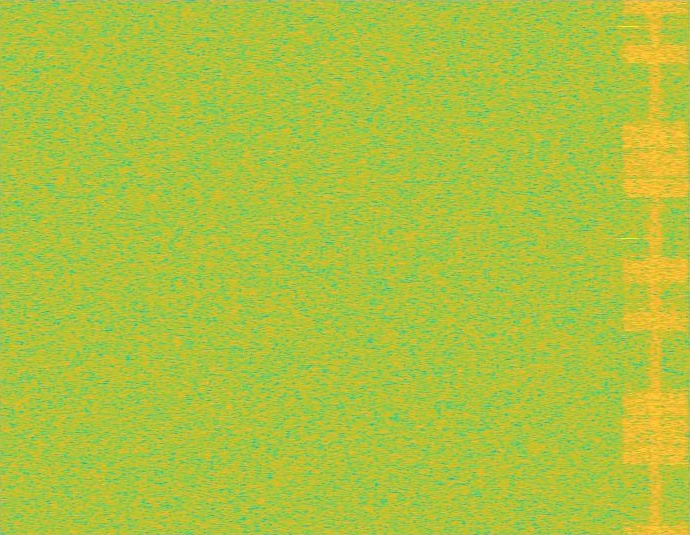DSSS: (648, 0, 663, 534)
LTE: (621, 0, 689, 534)
Radar: (622, 0, 635, 534)
